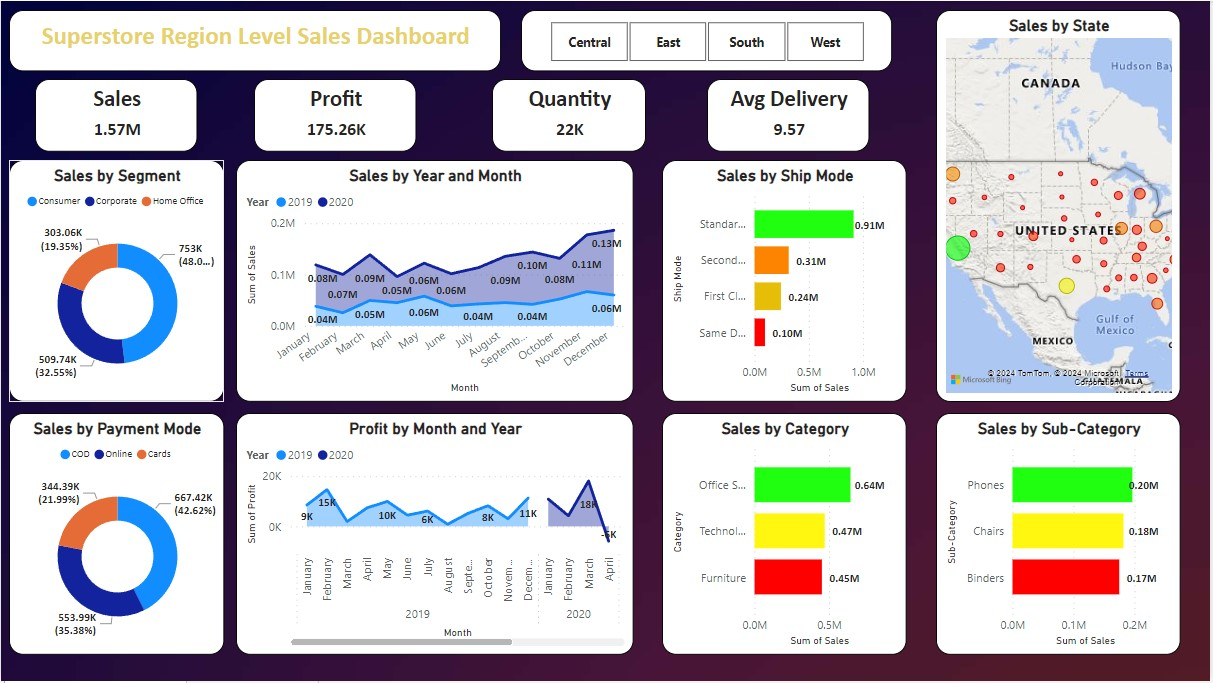

This screenshot's page, from the dashboard's own definition file:
{"tool":"powerbi","page":{"name":"Regional Sales Dashboard","canvas":[1280,720],"ordinal":0},"visuals":[{"type":"textbox","box":[8.1,9.3,520.6,65.1],"z":0},{"type":"slicer","fields":{"Values":["SuperStore_Sales_Dataset.Region"]},"box":[550.8,9.3,392.7,65.1],"z":1000},{"type":"stackedAreaChart","title":"Sales by Year and Month","fields":{"Category":["SuperStore_Sales_Dataset.Order Date.Variation.Date Hierarchy.Month"],"Y":["Sum(SuperStore_Sales_Dataset.Sales)"],"Series":["SuperStore_Sales_Dataset.Order Date.Variation.Date Hierarchy.Year"]},"box":[248.7,168.5,420.6,255.6],"z":2000},{"type":"stackedAreaChart","title":"Profit by Month and Year","fields":{"Series":["SuperStore_Sales_Dataset.Order Date.Variation.Date Hierarchy.Year"],"Category":["SuperStore_Sales_Dataset.Order Date.Variation.Date Hierarchy.Year","SuperStore_Sales_Dataset.Order Date.Variation.Date Hierarchy.Month"],"Y":["Sum(SuperStore_Sales_Dataset.Profit)"]},"box":[248.7,435.7,420.6,255.6],"z":3000},{"type":"clusteredBarChart","title":"Sales by Ship Mode","fields":{"Category":["SuperStore_Sales_Dataset.Ship Mode"],"Y":["Sum(SuperStore_Sales_Dataset.Sales)"]},"box":[699.5,168.5,259.1,255.6],"z":4000},{"type":"clusteredBarChart","title":"Sales by Category","fields":{"Y":["Sum(SuperStore_Sales_Dataset.Sales)"],"Category":["SuperStore_Sales_Dataset.Category"]},"box":[699.5,435.7,259.1,255.6],"z":5000},{"type":"clusteredBarChart","title":"Sales by Sub-Category","fields":{"Y":["Sum(SuperStore_Sales_Dataset.Sales)"],"Category":["SuperStore_Sales_Dataset.Sub-Category"]},"box":[990,435.7,259.1,255.6],"z":6000},{"type":"map","title":"Sales by State","fields":{"Category":["SuperStore_Sales_Dataset.State"],"Size":["Sum(SuperStore_Sales_Dataset.Sales)"]},"box":[990,9.3,259.1,414.8],"z":7000},{"type":"donutChart","title":"Sales by Segment","fields":{"Y":["Sum(SuperStore_Sales_Dataset.Sales)"],"Category":["SuperStore_Sales_Dataset.Segment"]},"box":[8.1,168.5,227.7,255.6],"z":8000},{"type":"donutChart","title":"Sales by Payment Mode","fields":{"Y":["Sum(SuperStore_Sales_Dataset.Sales)"],"Category":["SuperStore_Sales_Dataset.Payment Mode"]},"box":[8.1,435.7,227.7,255.6],"z":9000},{"type":"card","title":"Sales","fields":{"Values":["Sum(SuperStore_Sales_Dataset.Sales)"]},"box":[36,82.5,172,76.7],"z":10000},{"type":"card","title":"Profit","fields":{"Values":["Sum(SuperStore_Sales_Dataset.Profit)"]},"box":[268.4,82.5,172,76.7],"z":11000},{"type":"card","title":"Quantity","fields":{"Values":["Sum(SuperStore_Sales_Dataset.Quantity)"]},"box":[519.4,82.5,162.7,76.7],"z":12000},{"type":"card","title":"Avg Delivery","fields":{"Values":["Avg(SuperStore_Sales_Dataset.Average_Delivery)"]},"box":[747.1,82.5,172,76.7],"z":13000}]}

Visuals, with their boxes in screenshot pixels (x1, y1, x2, y2), scaled from the page's 1280x720 canvas onto the 1213x683 screenshot:
textbox: left=8, top=9, right=501, bottom=71
slicer - SuperStore_Sales_Dataset.Region: left=522, top=9, right=894, bottom=71
"Sales by Year and Month" stackedAreaChart: left=236, top=160, right=634, bottom=402
"Profit by Month and Year" stackedAreaChart: left=236, top=413, right=634, bottom=656
"Sales by Ship Mode" clusteredBarChart: left=663, top=160, right=908, bottom=402
"Sales by Category" clusteredBarChart: left=663, top=413, right=908, bottom=656
"Sales by Sub-Category" clusteredBarChart: left=938, top=413, right=1184, bottom=656
"Sales by State" map: left=938, top=9, right=1184, bottom=402
"Sales by Segment" donutChart: left=8, top=160, right=223, bottom=402
"Sales by Payment Mode" donutChart: left=8, top=413, right=223, bottom=656
"Sales" card: left=34, top=78, right=197, bottom=151
"Profit" card: left=254, top=78, right=417, bottom=151
"Quantity" card: left=492, top=78, right=646, bottom=151
"Avg Delivery" card: left=708, top=78, right=871, bottom=151
